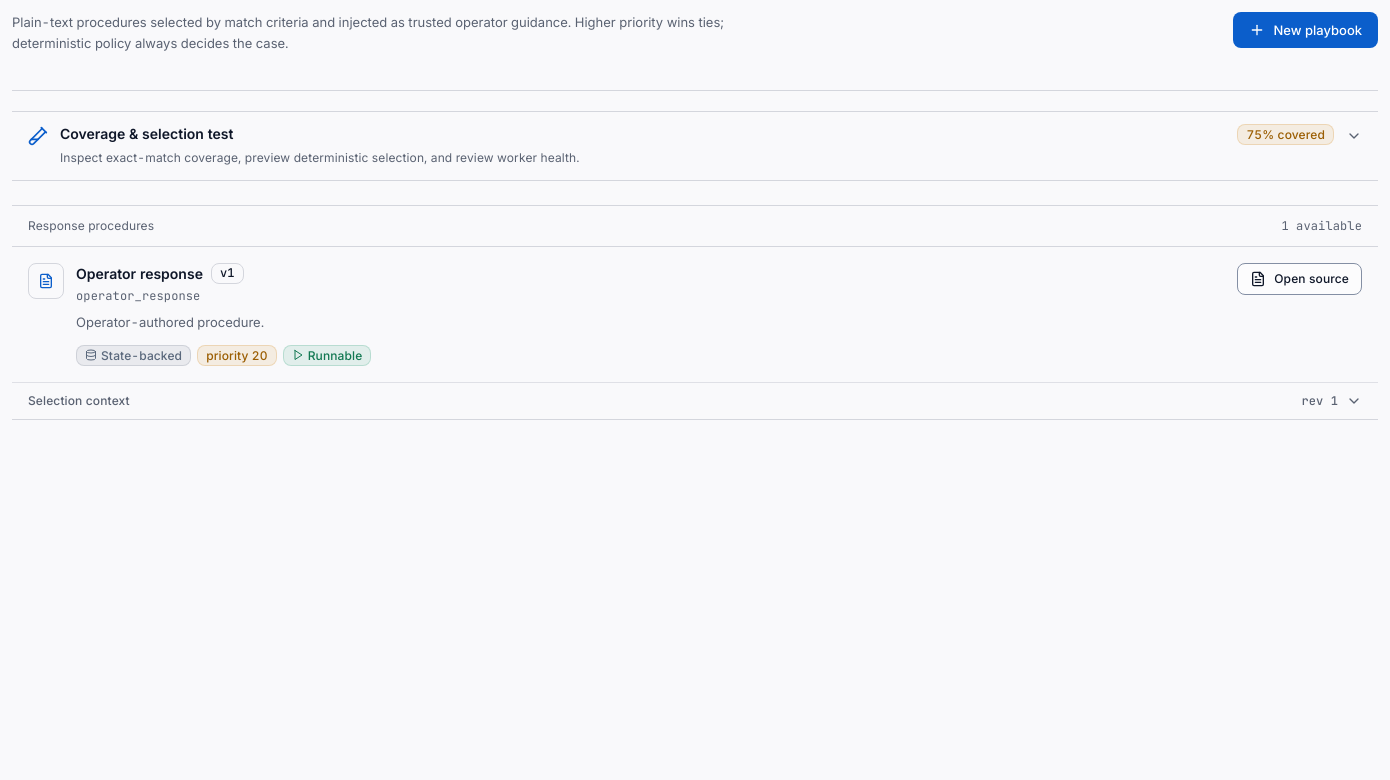
Test: Playbooks Catalog management › explains the exact deterministic dry-run selection and failed criteria
Check: the heading "Operator response" is shown, box [76,264,203,282]
Click the heading "Coverage & selection test". click: (147, 134)
box: [12,112,1378,180]
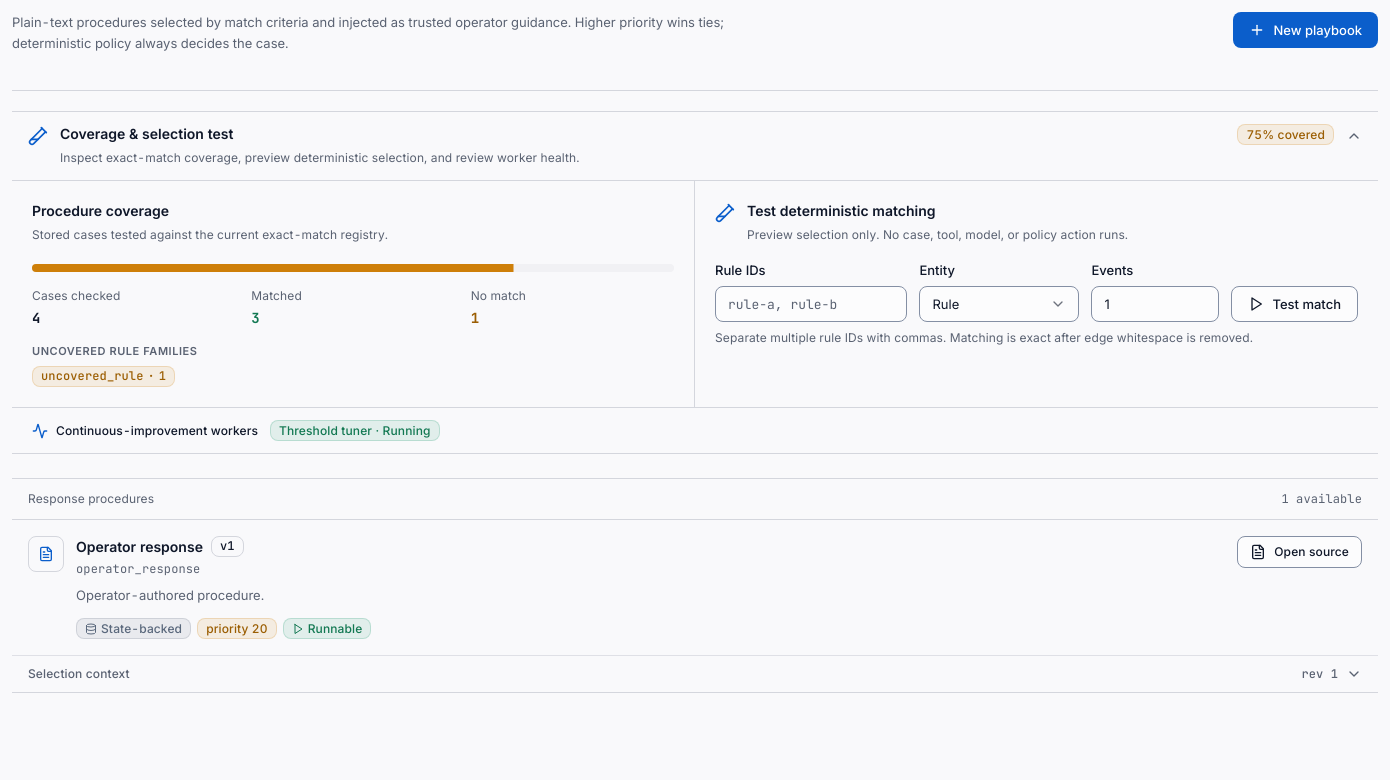
Type " different_rule " into the field labelled "Rule IDs". click: (811, 304)
box: [715,286,907,322]
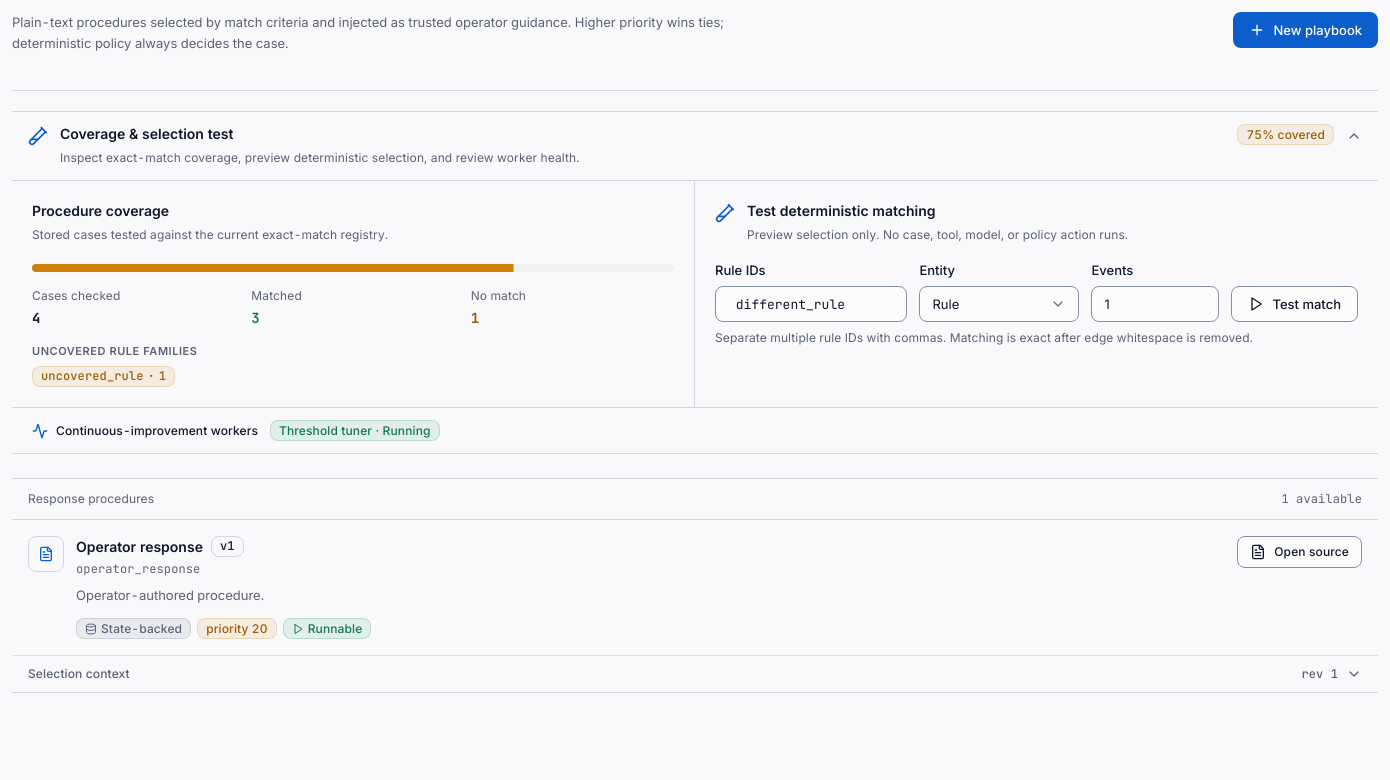
Replace the text in the number field labelled "Events" with "3". click: (1155, 304)
box: [1091,286,1219,322]
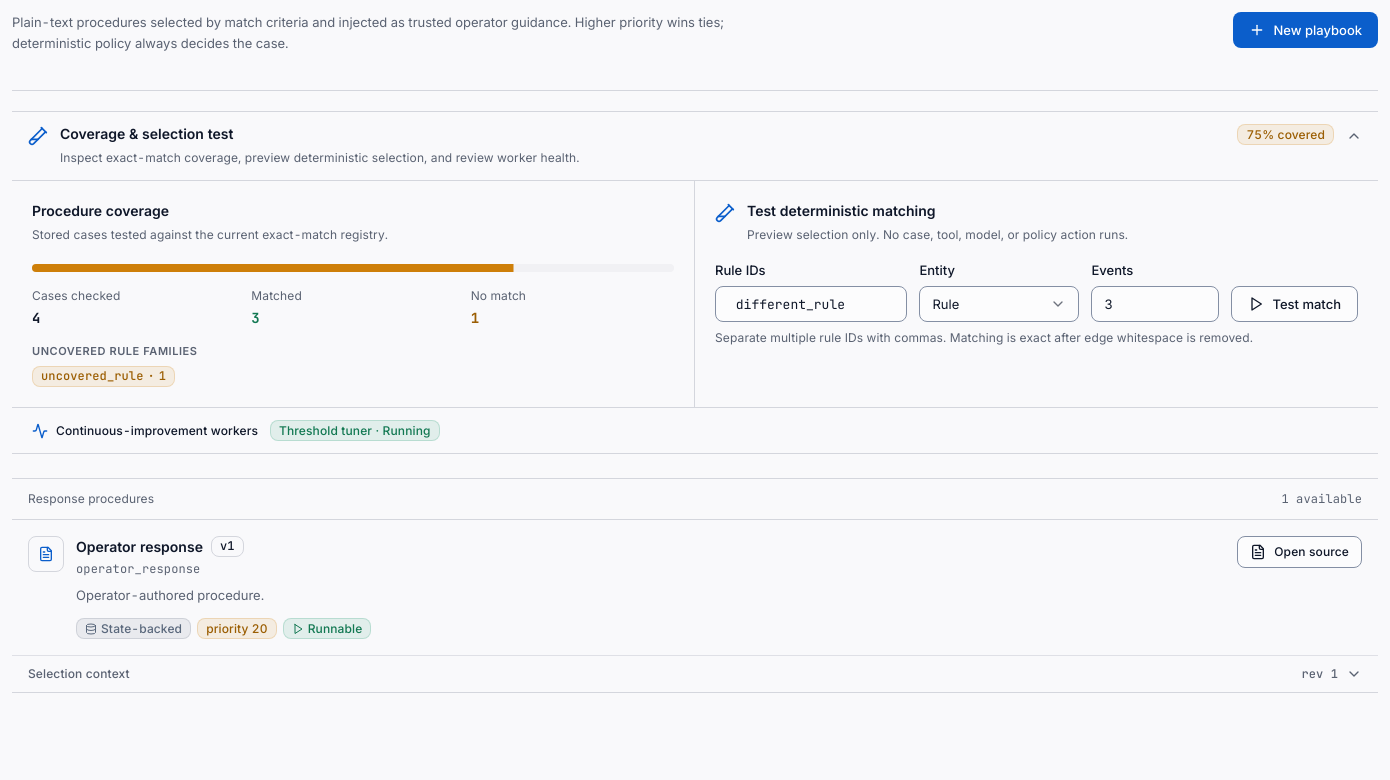
Click the button "Test match". click: (1295, 304)
box: [1231,286,1358,322]
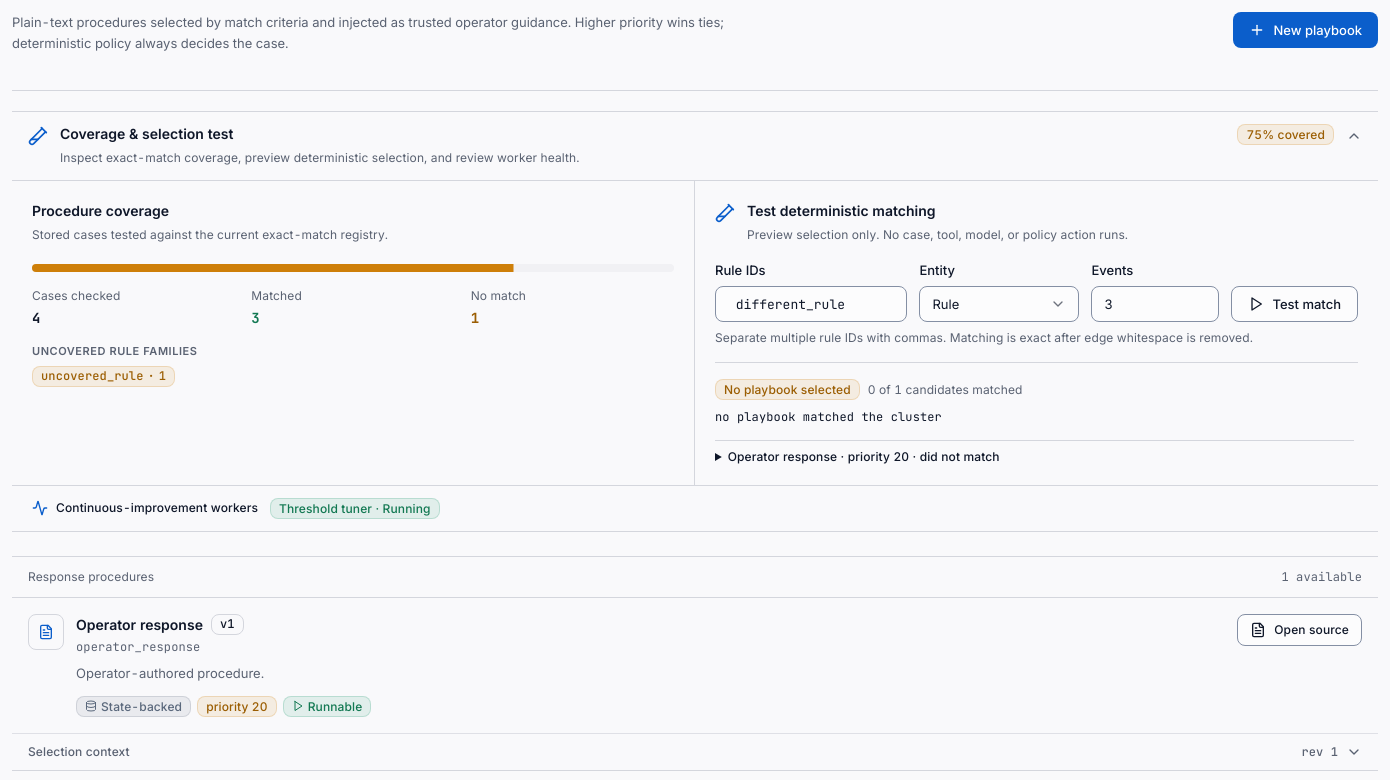
Check: the text "No playbook selected" is shown, box [715,379,860,400]
Check: the text "no playbook matched the cluster" is shown, box [715,409,942,425]
